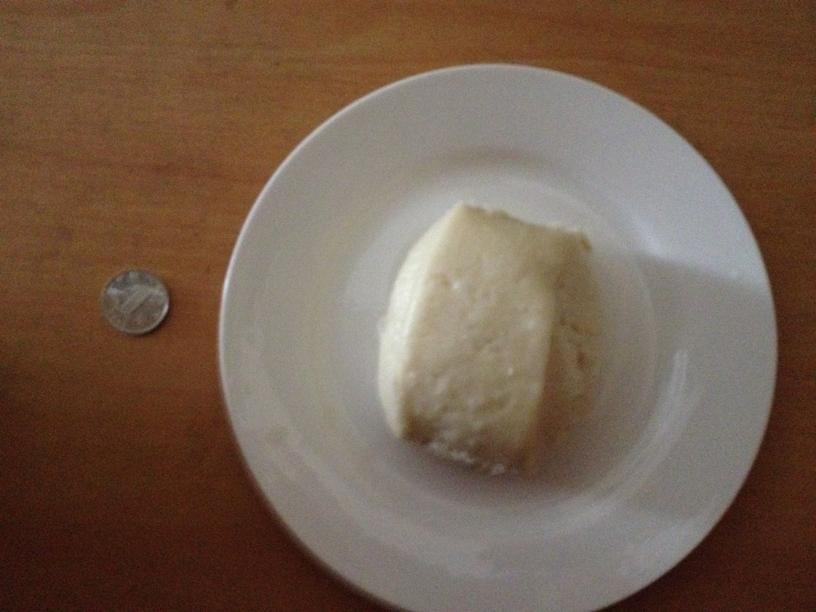bun: (374, 202, 603, 478)
coin: (98, 268, 169, 335)
